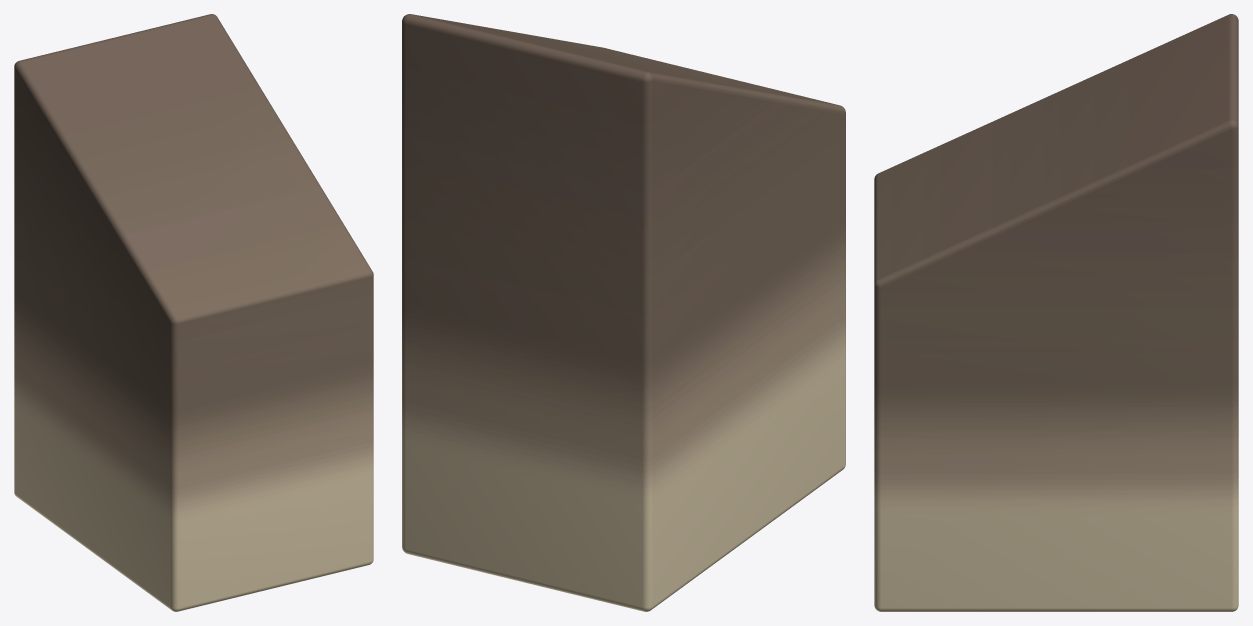
The model's file is knight-black.glb.
3 views of the same model, side by side, from view 1: azimuth 30°, elevation 25°; view 2: azimuth 150°, elevation 25°; view 3: azimuth 270°, elevation 25° (orthographic). The views are drawn at different scales.
Visible parts, largest first — view 1: MONOLITH Jezdec – Kouř (černý); view 2: MONOLITH Jezdec – Kouř (černý); view 3: MONOLITH Jezdec – Kouř (černý).
Part boxes in pixels (x1,y1,x2,y2): MONOLITH Jezdec – Kouř (černý): (14, 14, 373, 611); MONOLITH Jezdec – Kouř (černý): (402, 14, 845, 611); MONOLITH Jezdec – Kouř (černý): (874, 14, 1238, 611).
Bounding box in the file's own units: 0.5825 × 1.2 × 0.8065.
1 material, 1 textured.
